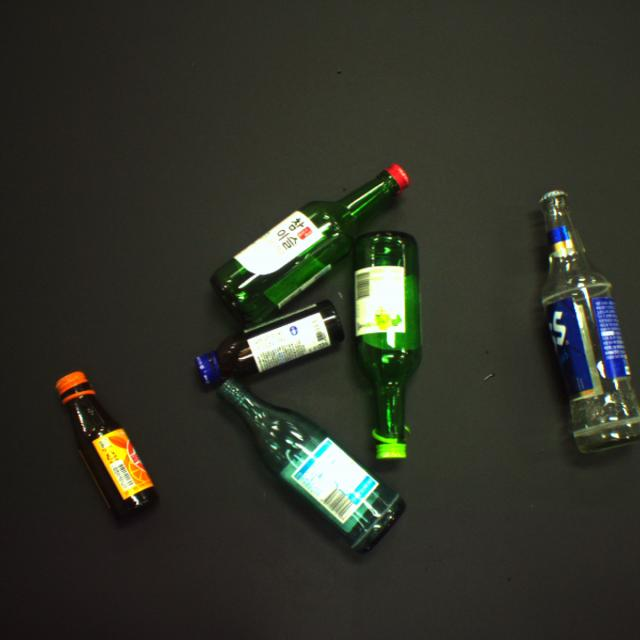beer-bottle: (540, 190, 639, 453)
soju-bottle: (218, 378, 407, 555), (210, 163, 408, 327), (353, 230, 423, 459)
